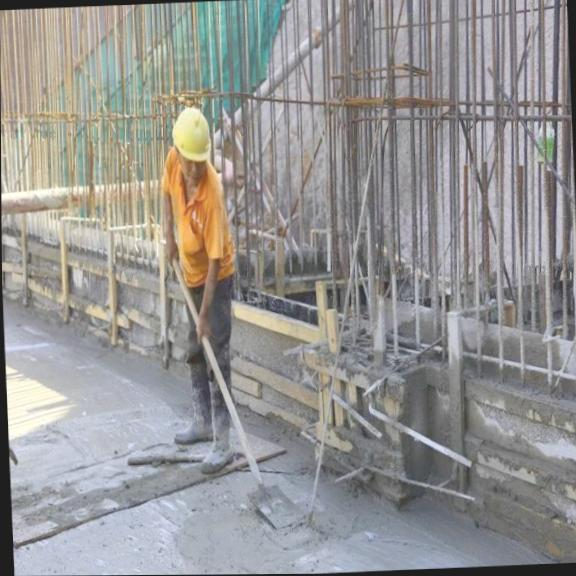no_safety_vest: (163, 150, 238, 289)
